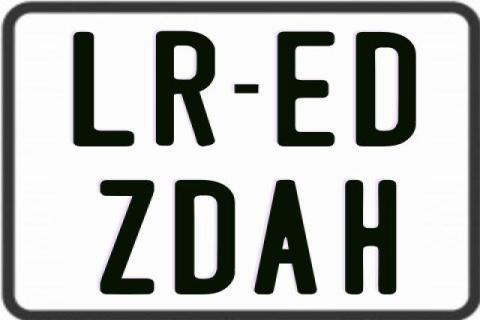A: (252, 177, 317, 297)
D: (176, 180, 242, 296), (356, 32, 420, 150)
E: (277, 30, 336, 146)
H: (342, 178, 394, 296)
L: (70, 32, 132, 147)
R: (155, 31, 217, 146)
Z: (98, 179, 156, 293)
